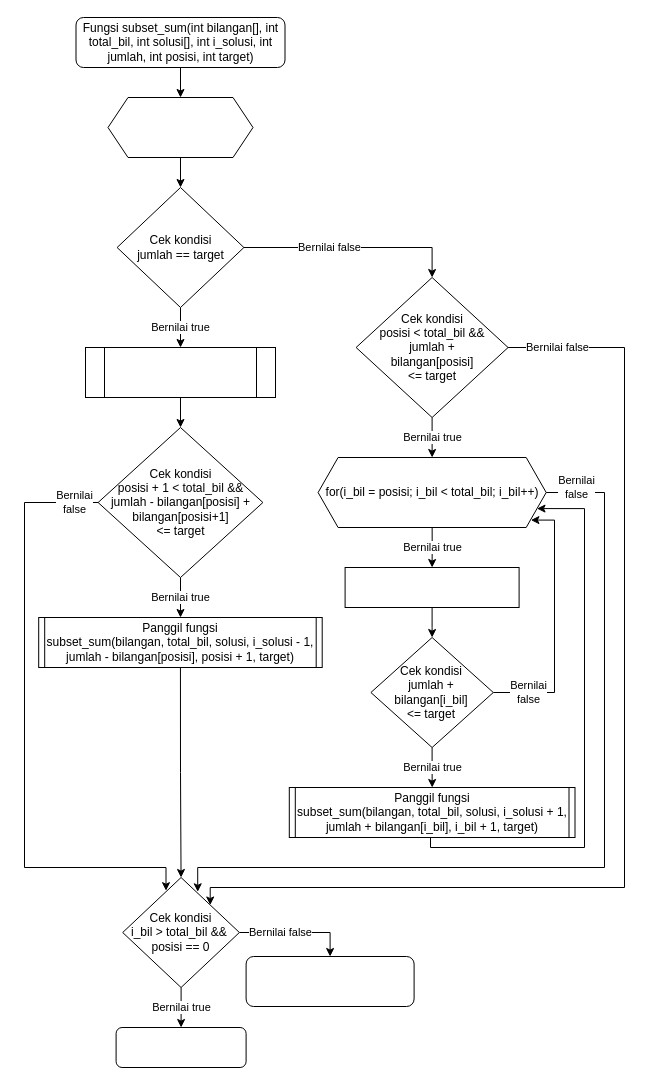
Some shapes in this 650 by 1085 pixel diagram are drawn without their labels. The centre of each missing label's shape, as x and y in pixels:
"Backtracking kembali ke posisi sebelumnya" goes at (329,981).
"Deklarasi variabel lokal i_bil : int" goes at (180,127).
"Menuju program utama" goes at (180,1047).
"Panggil fungsi printSubset(solusi, i_solusi)" goes at (180,372).
"solusi[i_solusi] = bilangan[i_bil]" goes at (431,587).
